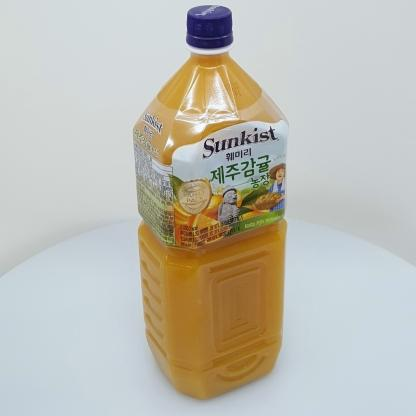-----------2L: (132, 5, 289, 399)
